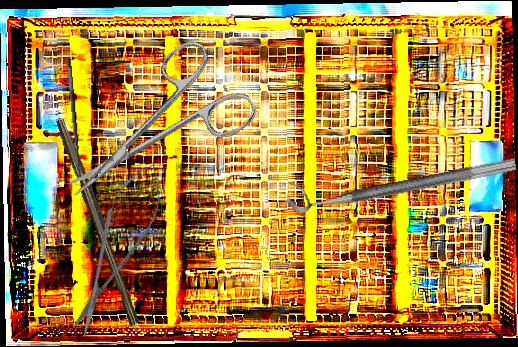Fixation Ring: (282, 139, 518, 216)
Hook Surgical: (64, 58, 93, 188)
Iris Scissors: (39, 30, 262, 230)
Micro Scissor: (55, 152, 177, 345)
Scalpel Handle: (52, 116, 146, 327)
